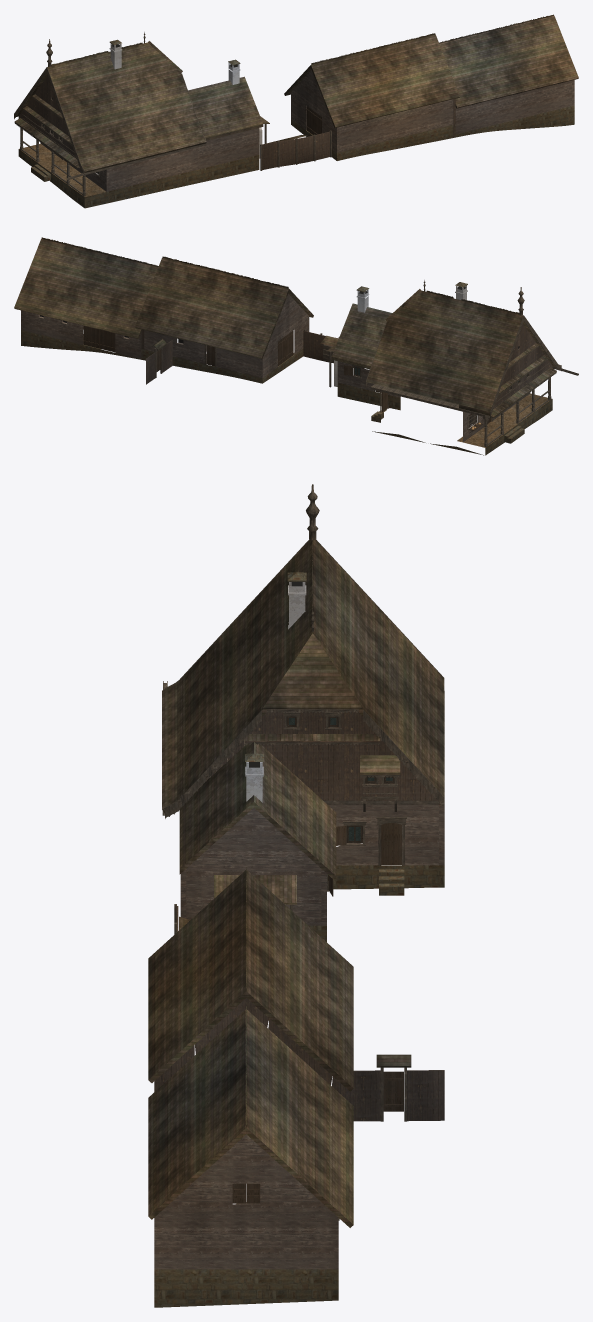
File: dom211_lekki.glb
The picture shows the model from 3 angles, top to bottom: view 1: azimuth 30°, elevation 25°; view 2: azimuth 150°, elevation 25°; view 3: azimuth 270°, elevation 25°; orthographic projection. The views are drawn at different scales.
Parts seen in each view (by area): view 1: Dom211_lekki; view 2: Dom211_lekki; view 3: Dom211_lekki.
Part boxes in pixels (<box>): Dom211_lekki: <box>14,14,578,208</box>; Dom211_lekki: <box>14,237,578,455</box>; Dom211_lekki: <box>148,484,444,1307</box>.
Size of the model in its own units: 50.86 by 16.74 by 12.86.
13 materials, 10 textured.
